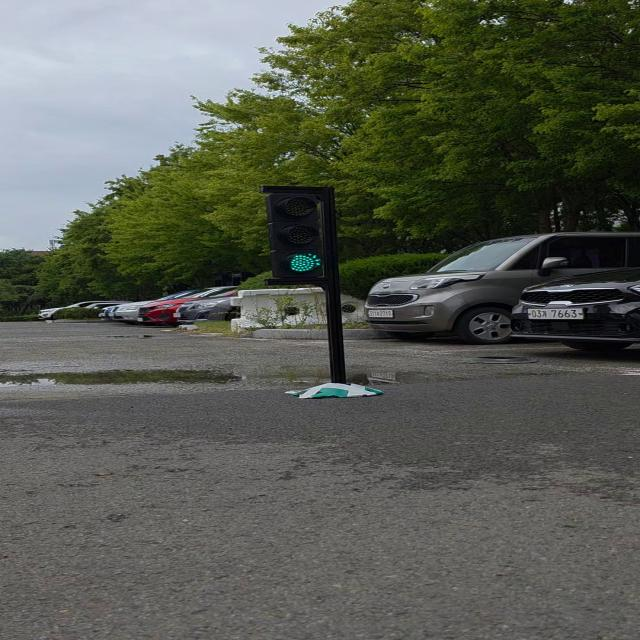green: (266, 189, 334, 286)
